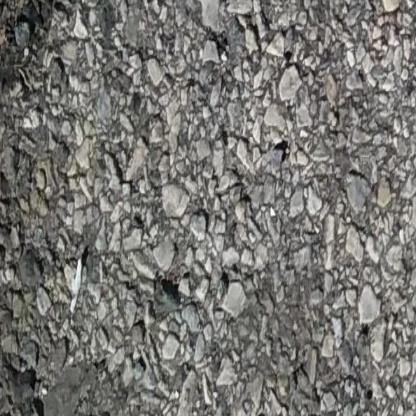Cracks: (0, 0, 80, 118)
